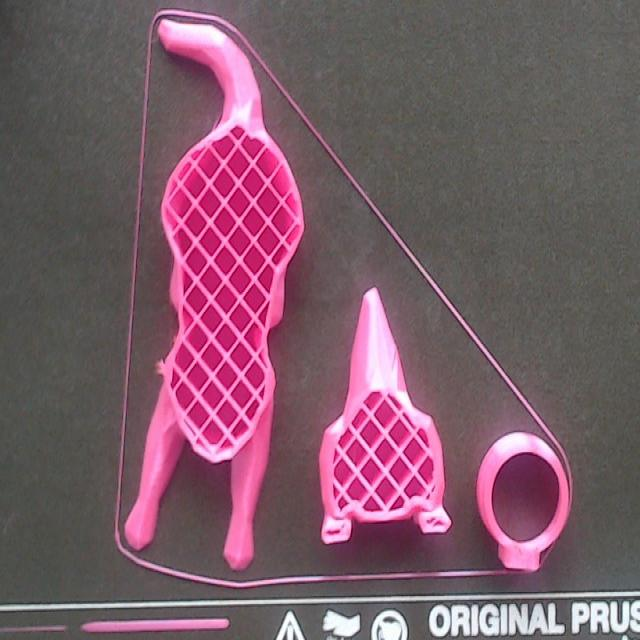mistake: (156, 361, 164, 375)
